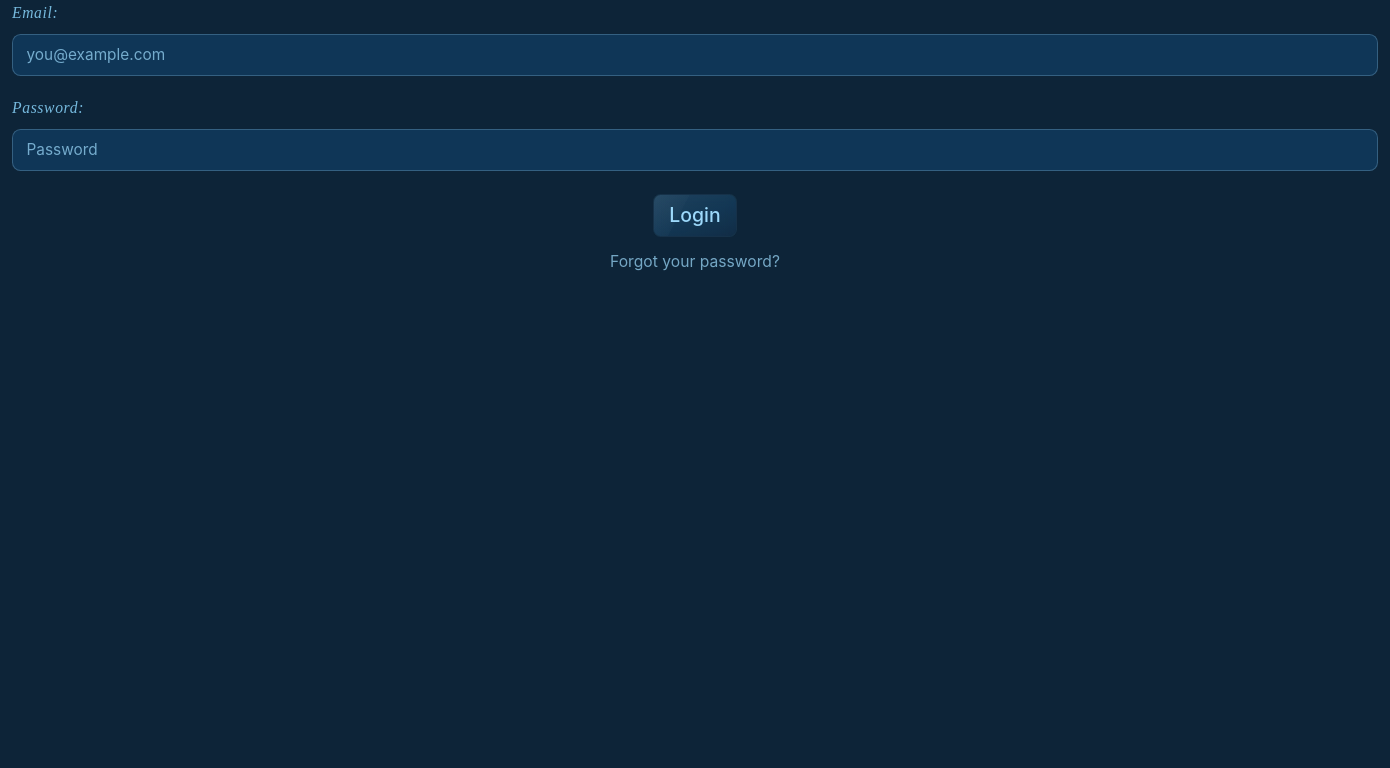
Test: LoginForm › falls back to a generic message when the request never reaches the server
In the field labelled "Email:": (695, 55) [12,34,1378,76], type "muki@example.com"
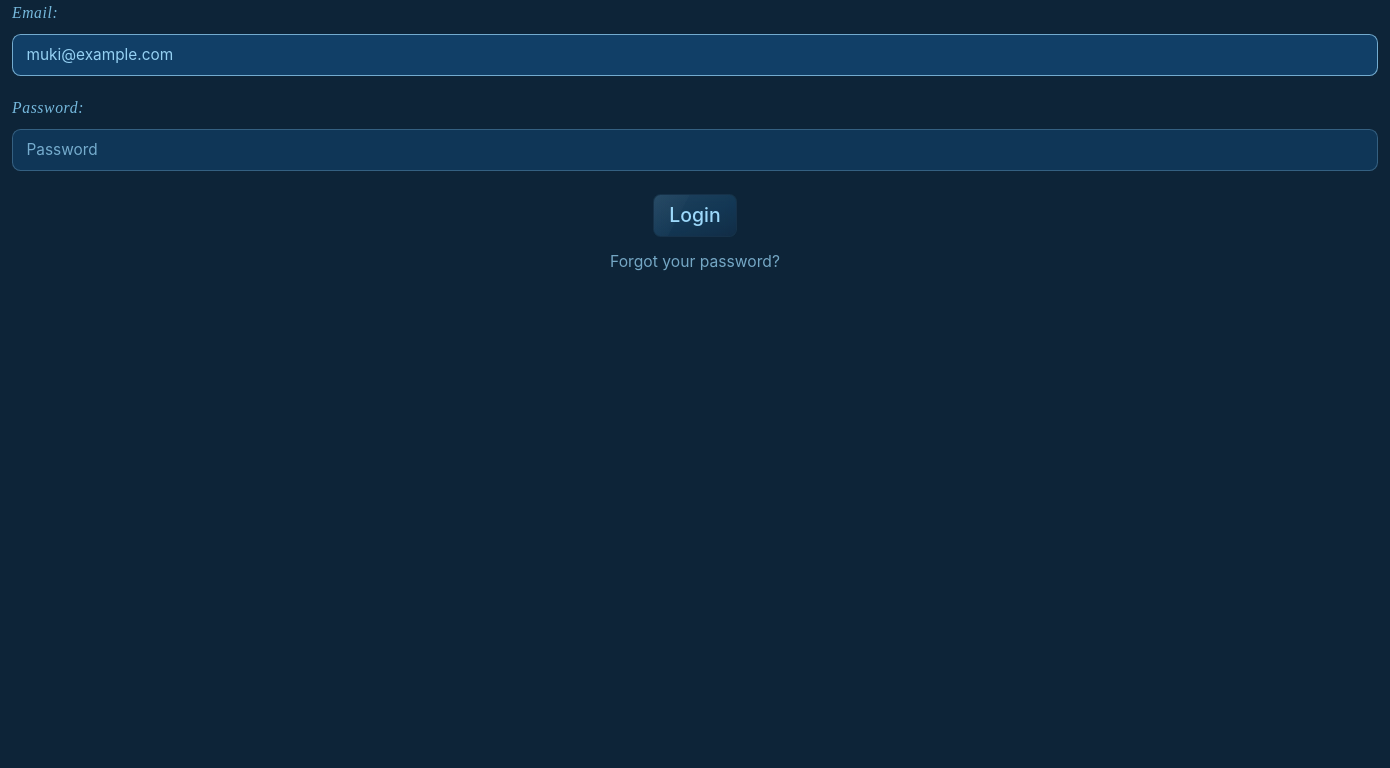
In the password field labelled "Password:": (695, 150) [12,129,1378,171], type "hunter22"
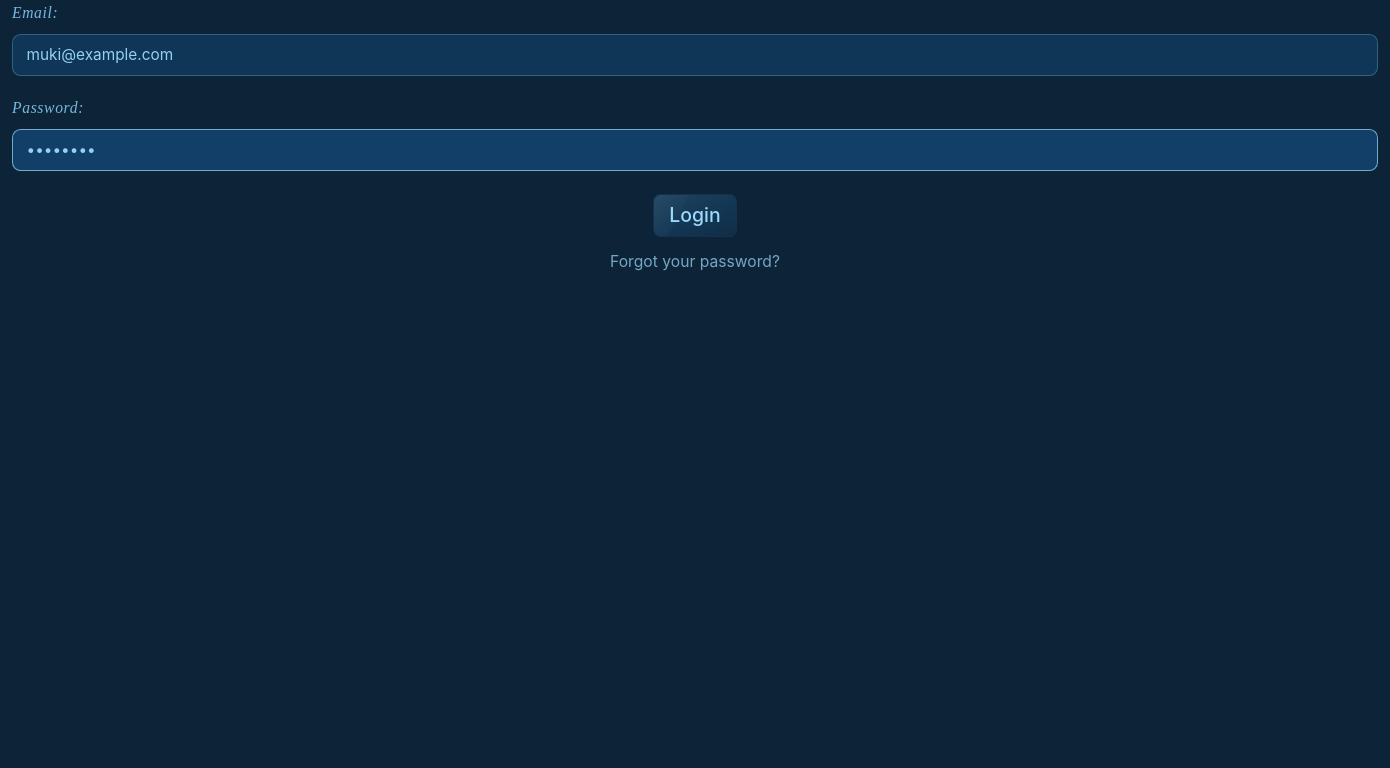
Click the button "Login": (695, 215) [653,194,737,237]
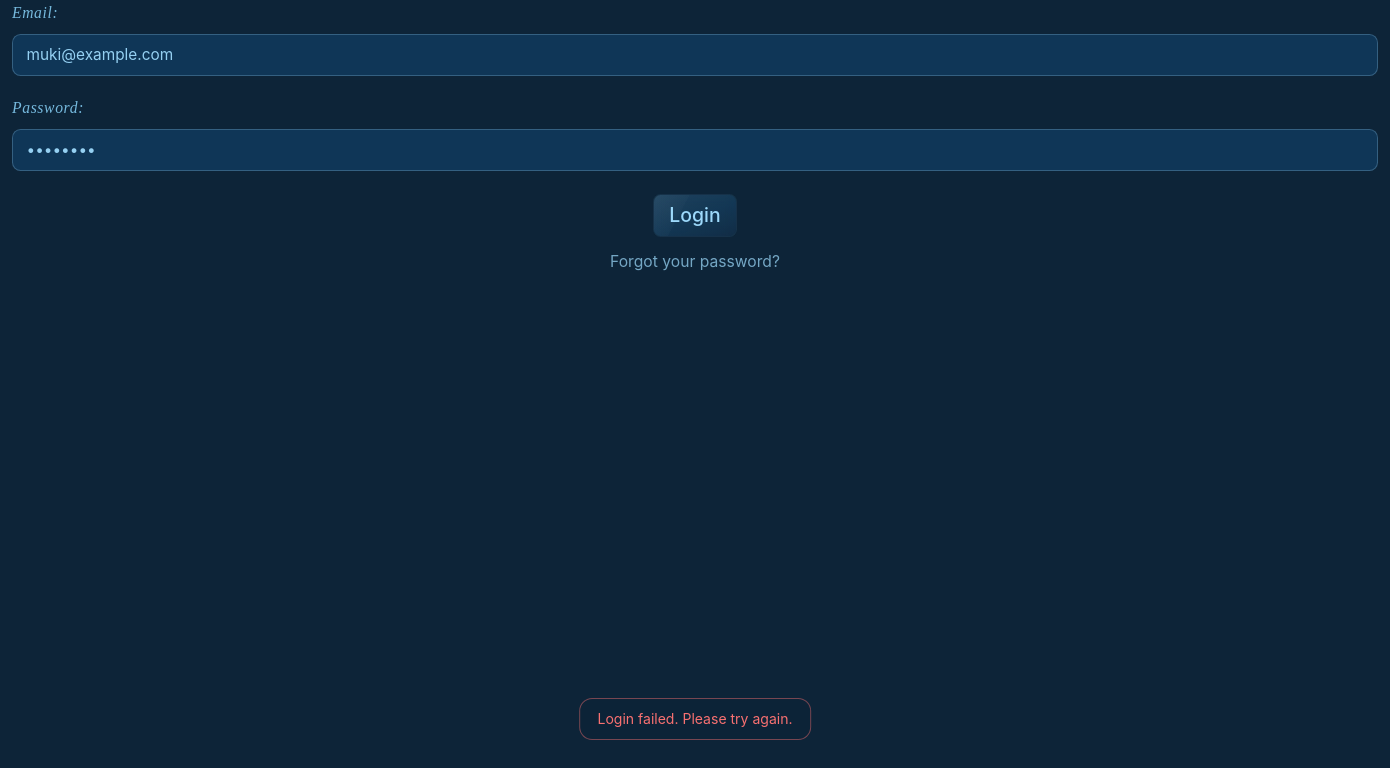
expect the message reads "Login failed. Please try again.": met, box [597,710,792,727]
